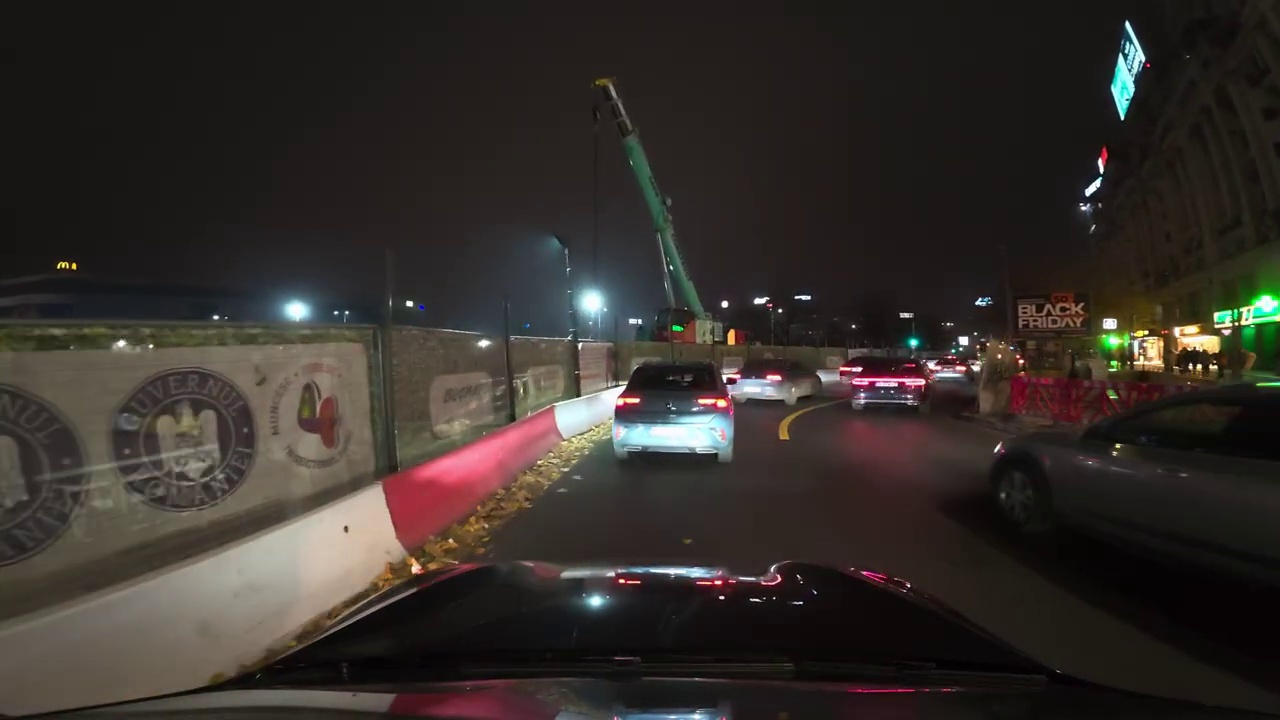acesa: (578, 288, 606, 317)
